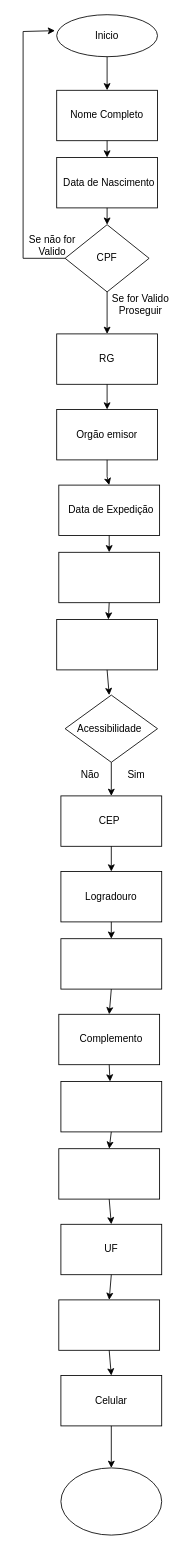
Image size: 184x1550. Some labels were removed from this diagram. The shapes that lost their labels are listed below. From the top down, each one's centre as x and y in pixels, then its label:
the point at 109,577: Nacionalidade
the point at 107,644: Genero
the point at 111,963: Nº
the point at 111,1106: Bairro
the point at 109,1173: Cidade
the point at 109,1324: Email
